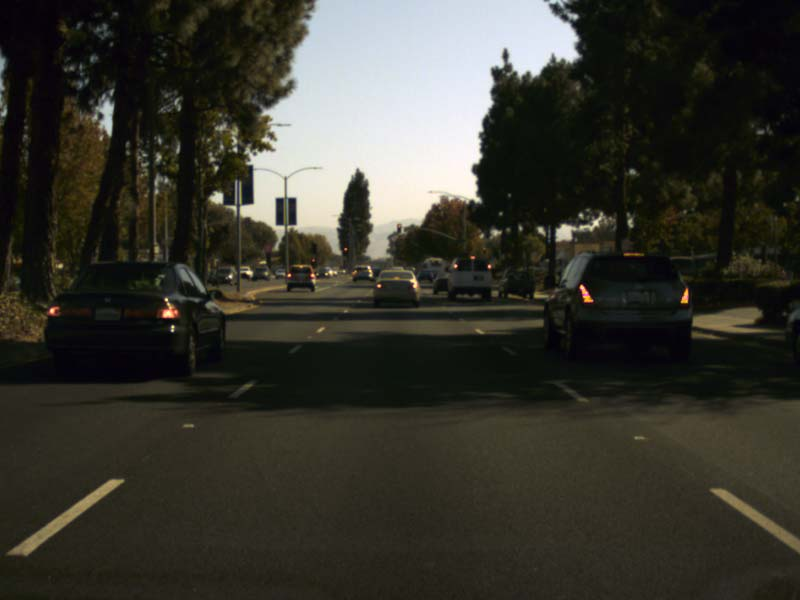Red: (342, 245, 348, 255), (311, 257, 316, 268), (396, 223, 401, 233)
